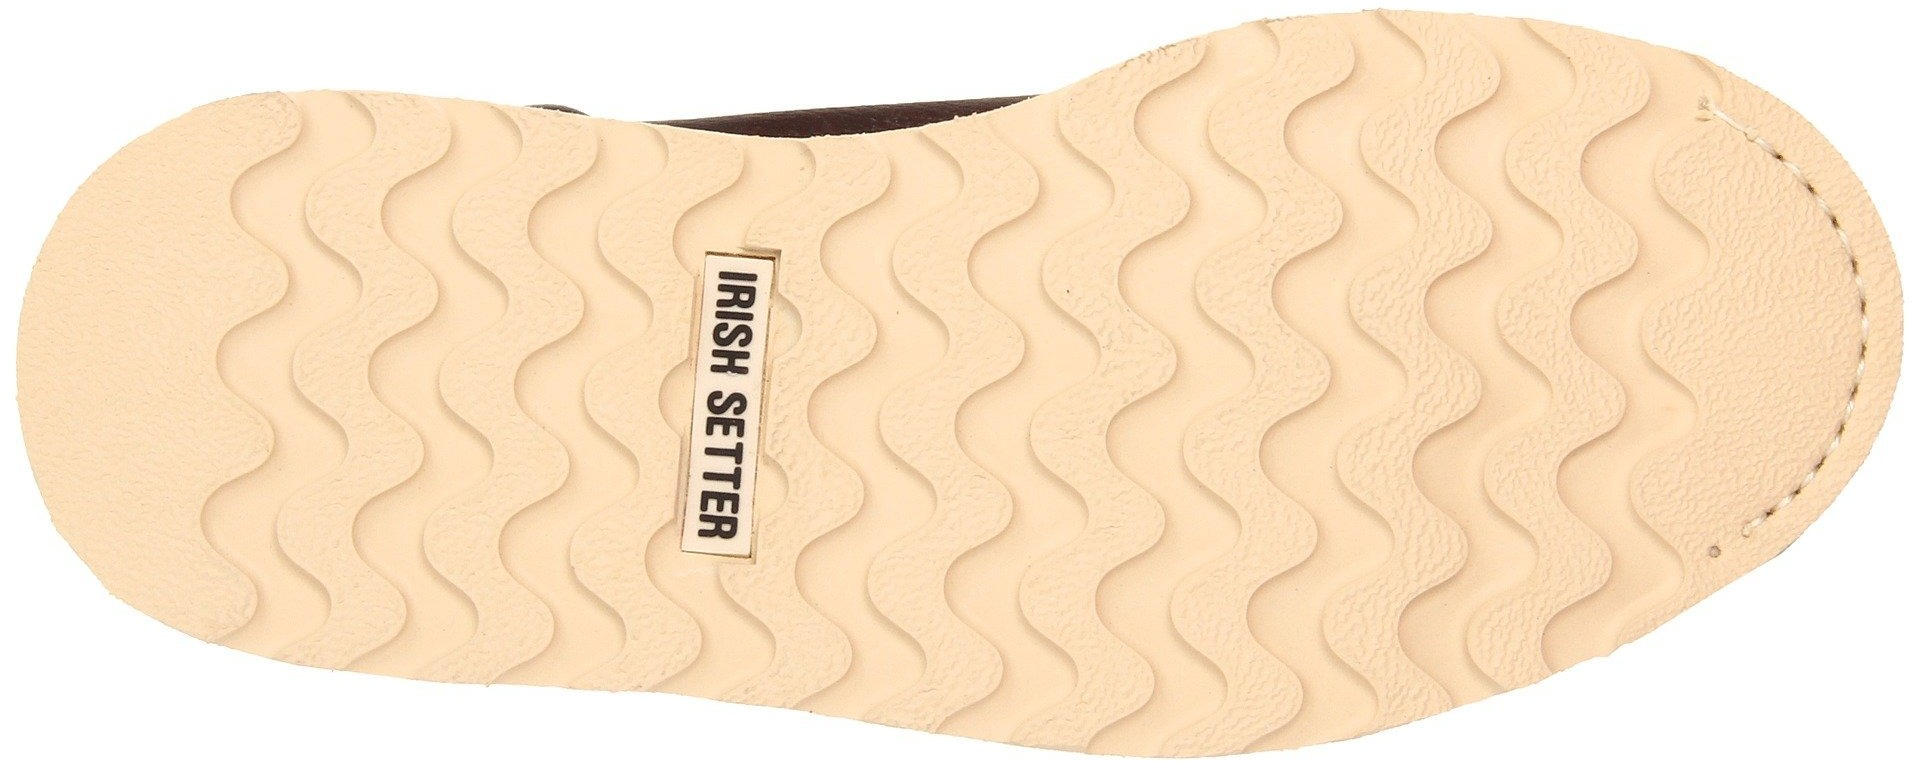chevron: (873, 4, 1693, 752), (104, 114, 662, 687), (142, 192, 522, 575), (549, 194, 873, 571), (1213, 124, 1517, 444), (880, 423, 1183, 694), (1538, 200, 1776, 433)
quad: (549, 194, 873, 571)
text: (549, 194, 873, 571), (686, 265, 758, 559)
